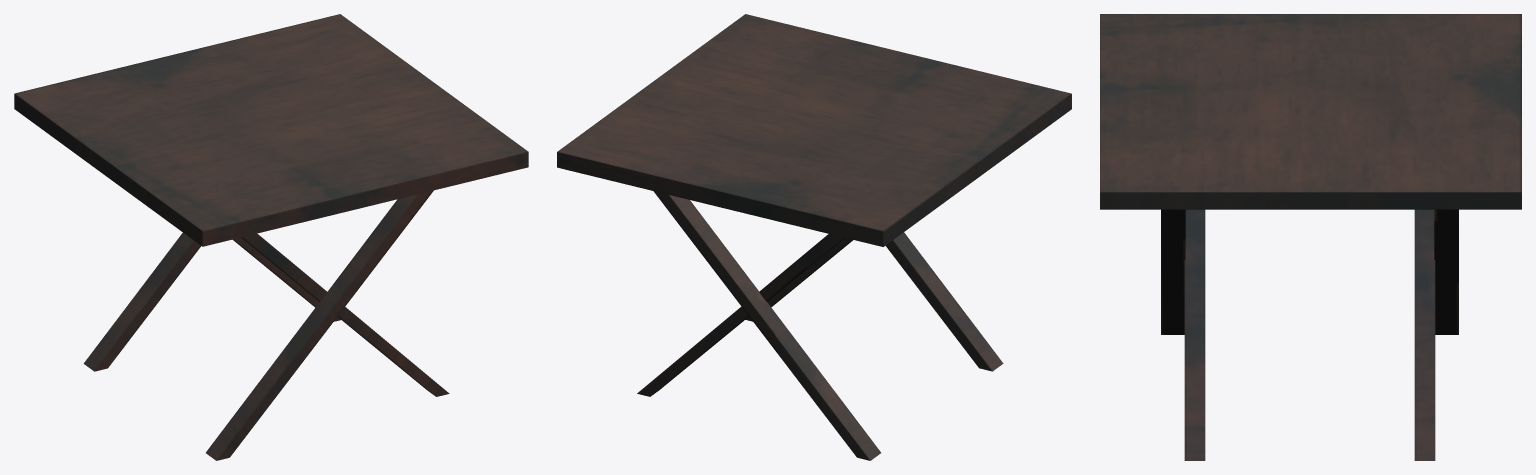
File: StreetStructures_Mesa.fbx
The picture shows the model from 3 angles, left to right: view 1: azimuth 30°, elevation 25°; view 2: azimuth 150°, elevation 25°; view 3: azimuth 270°, elevation 25°; orthographic projection. The views are drawn at different scales.
Visible parts, largest first — view 1: Mesa; view 2: Mesa; view 3: Mesa.
Boxes of the visible parts, left/top/right/bottom form: Mesa: left=14, top=14, right=528, bottom=460; Mesa: left=557, top=14, right=1071, bottom=460; Mesa: left=1100, top=14, right=1521, bottom=460.
Bounding box in the file's own units: 115 × 87.36 × 115.
